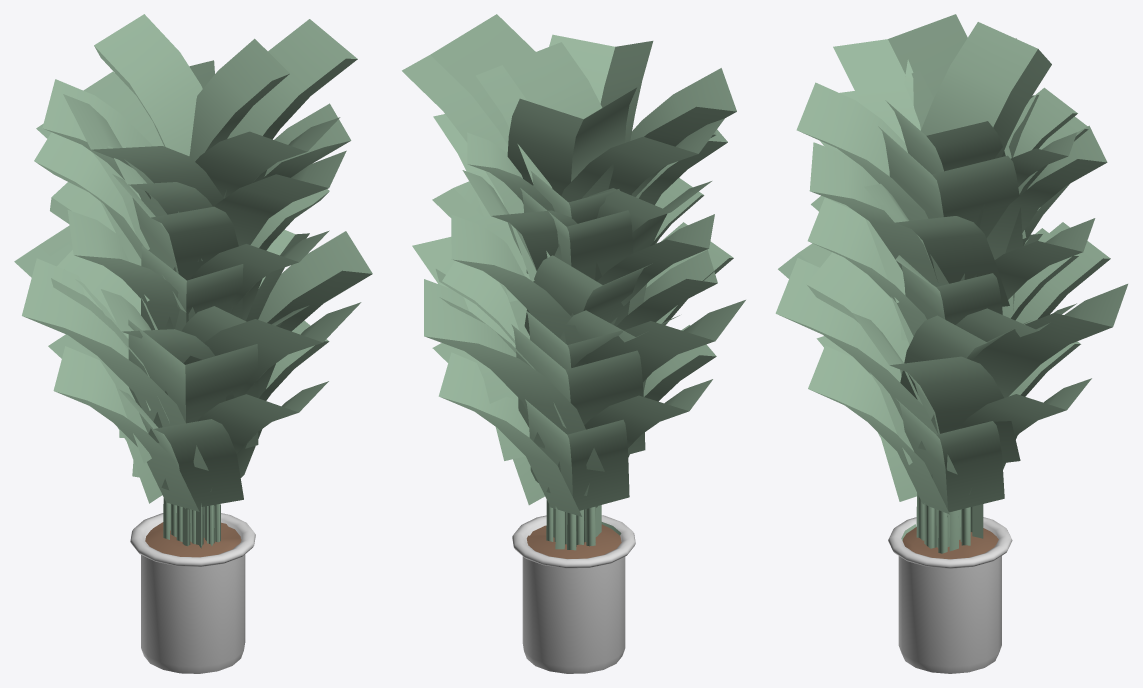
3 views of the same model, side by side, from view 1: azimuth 30°, elevation 25°; view 2: azimuth 150°, elevation 25°; view 3: azimuth 270°, elevation 25° (orthographic).
Parts seen in each view (by area): view 1: f102; view 2: f102; view 3: f102.
Part boxes in pixels (x1=…): f102: x1=14, y1=14, x2=372, y2=673; f102: x1=402, y1=14, x2=745, y2=673; f102: x1=775, y1=14, x2=1127, y2=673.
Size of the model in its own units: 106 by 104 by 193.
